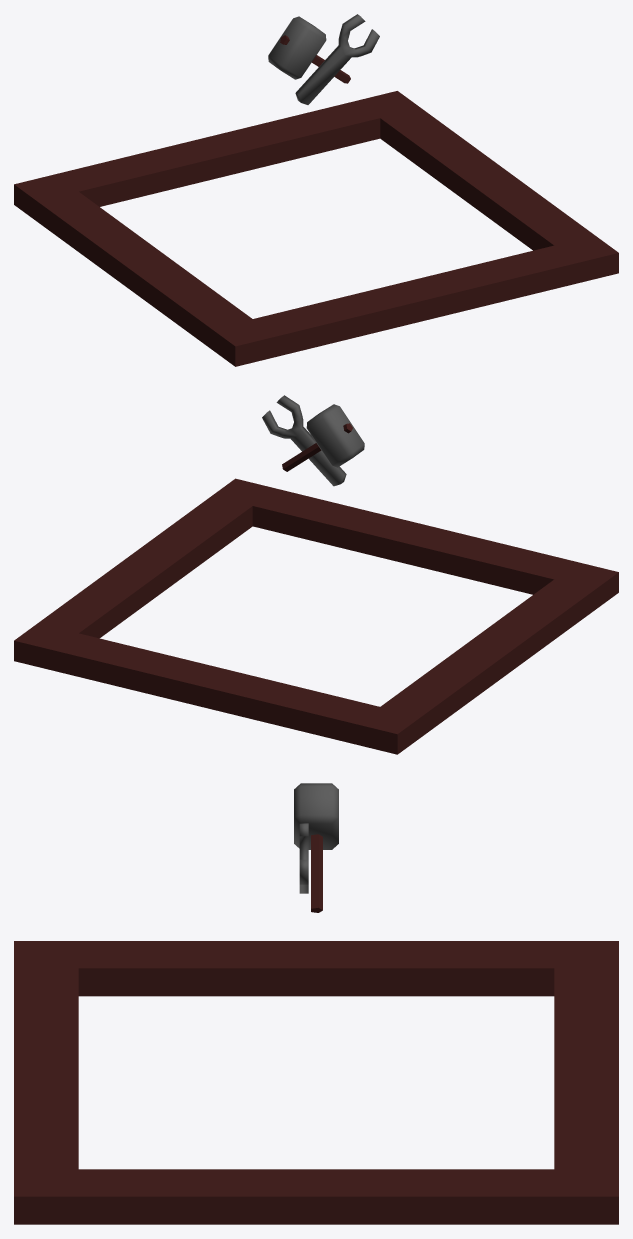
The model's file is instrumentiki)))).fbx.
3 renders of one model, top to bottom at view 1: azimuth 30°, elevation 25°; view 2: azimuth 150°, elevation 25°; view 3: azimuth 270°, elevation 25°, orthographic. The views are drawn at different scales.
Visible parts, largest first — view 1: Plane.001, Cube.002, Plane.002; view 2: Plane.001, Cube.002, Plane.002; view 3: Plane.001, Cube.002, Cylinder.008, Plane.002.
Part boxes in pixels (bbox=[...]): Plane.001: bbox=[14, 91, 618, 366]; Cube.002: bbox=[268, 16, 326, 79]; Plane.002: bbox=[295, 14, 379, 104]; Plane.001: bbox=[14, 478, 618, 754]; Cube.002: bbox=[306, 404, 364, 467]; Plane.002: bbox=[262, 395, 346, 486]; Plane.001: bbox=[14, 941, 618, 1224]; Cube.002: bbox=[294, 783, 338, 849]; Cylinder.008: bbox=[311, 834, 322, 912]; Plane.002: bbox=[299, 823, 308, 893].
Bounding box in the file's own units: 200 × 110 × 200.
